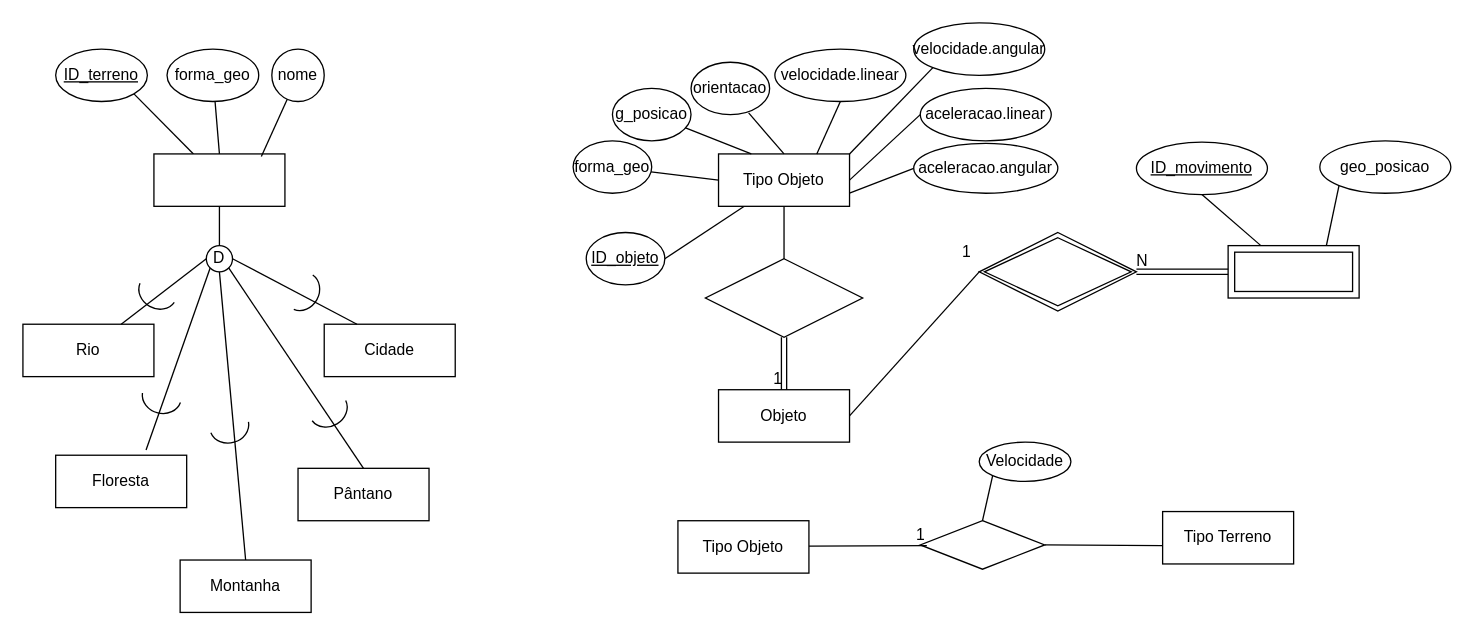
This 1474x635 diagram has some shape labels left out. Each missing label, with the box of its shape:
afetado por: (919, 519, 1045, 569)
mantém: (978, 231, 1136, 311)
Registo Movimento: (1227, 244, 1359, 298)
Relationship: (704, 257, 863, 337)
Terreno: (153, 153, 285, 206)
